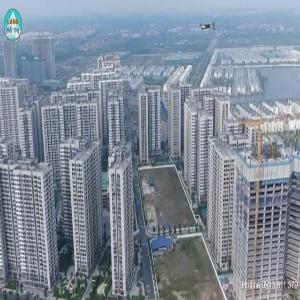drone: (184, 2, 235, 53)
